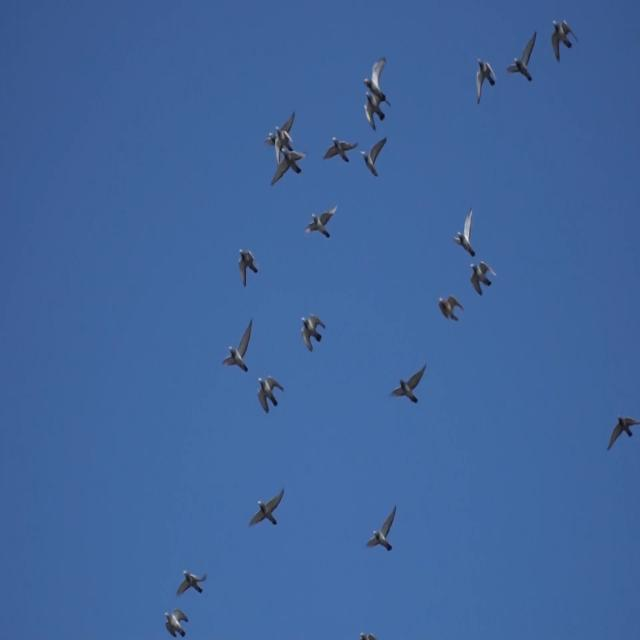bird: (220, 314, 254, 374), (506, 27, 538, 84), (388, 362, 428, 405), (269, 145, 307, 190), (247, 486, 285, 529), (366, 504, 398, 553), (363, 55, 392, 109), (262, 111, 296, 155), (550, 17, 580, 64), (304, 202, 339, 241), (606, 412, 640, 452), (359, 136, 389, 179), (256, 372, 286, 415), (452, 206, 476, 257), (474, 55, 498, 105), (364, 90, 392, 132), (468, 261, 498, 297), (300, 313, 327, 353), (322, 136, 359, 164), (175, 566, 209, 596), (237, 246, 259, 288), (164, 606, 190, 639), (437, 294, 465, 324), (274, 125, 293, 168)
